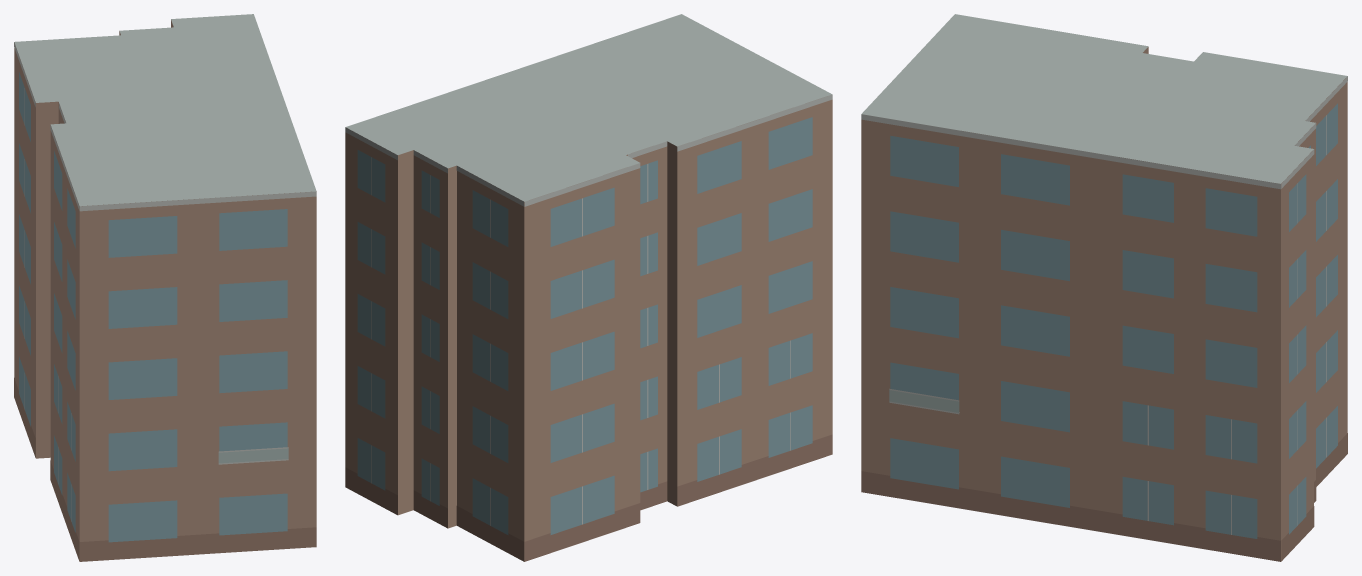
Rendered from survey-upis-32993564.glb.
3 renders of one model, left to right at view 1: azimuth 30°, elevation 25°; view 2: azimuth 150°, elevation 25°; view 3: azimuth 270°, elevation 25°, orthographic. The views are drawn at different scales.
Parts seen in each view (by area): view 1: survey-upis-32993564.tmp; view 2: survey-upis-32993564.tmp; view 3: survey-upis-32993564.tmp.
Part boxes in pixels (bbox=[...]): survey-upis-32993564.tmp: bbox=[14, 14, 316, 561]; survey-upis-32993564.tmp: bbox=[345, 14, 832, 561]; survey-upis-32993564.tmp: bbox=[861, 14, 1347, 561].
Size of the model in its own units: 16.5 by 17.1 by 19.96.
